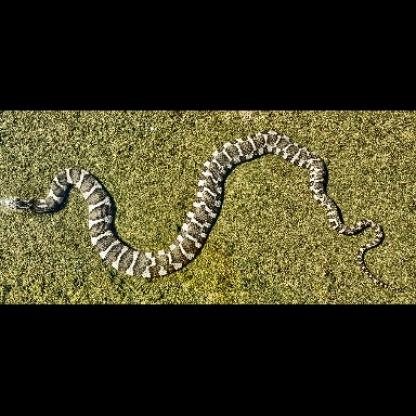Snake: (5, 121, 403, 298)
